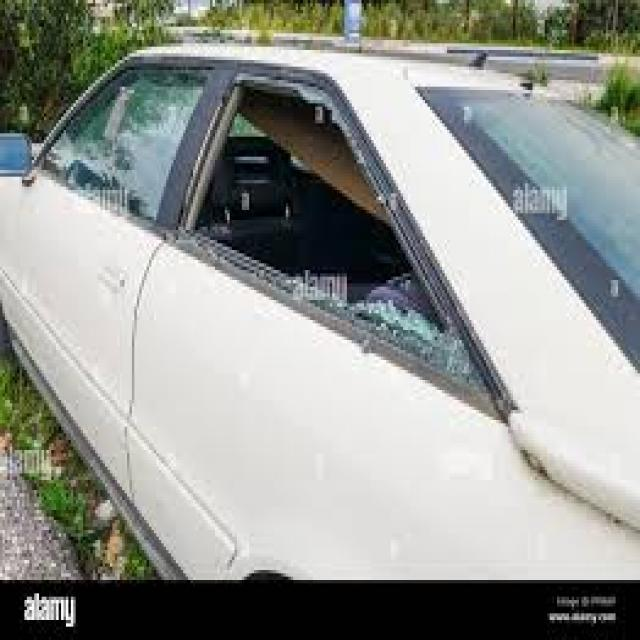damaged-window: (178, 58, 494, 393)
